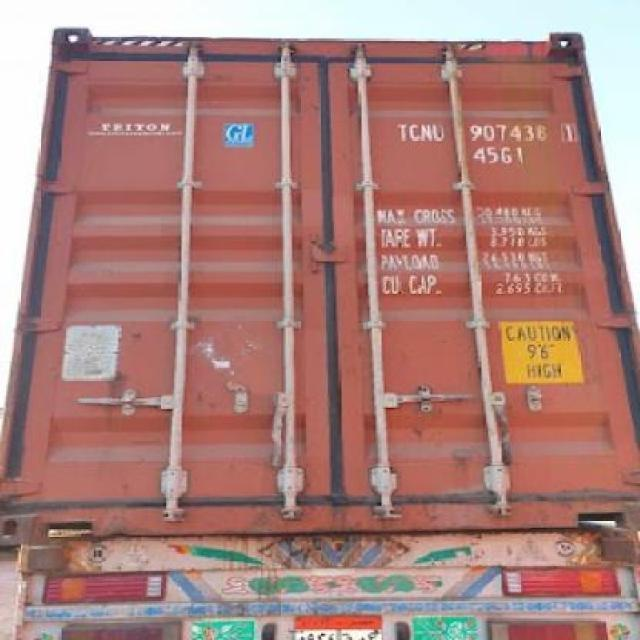ISO: (472, 146, 524, 166)
container_number: (396, 120, 572, 142)
